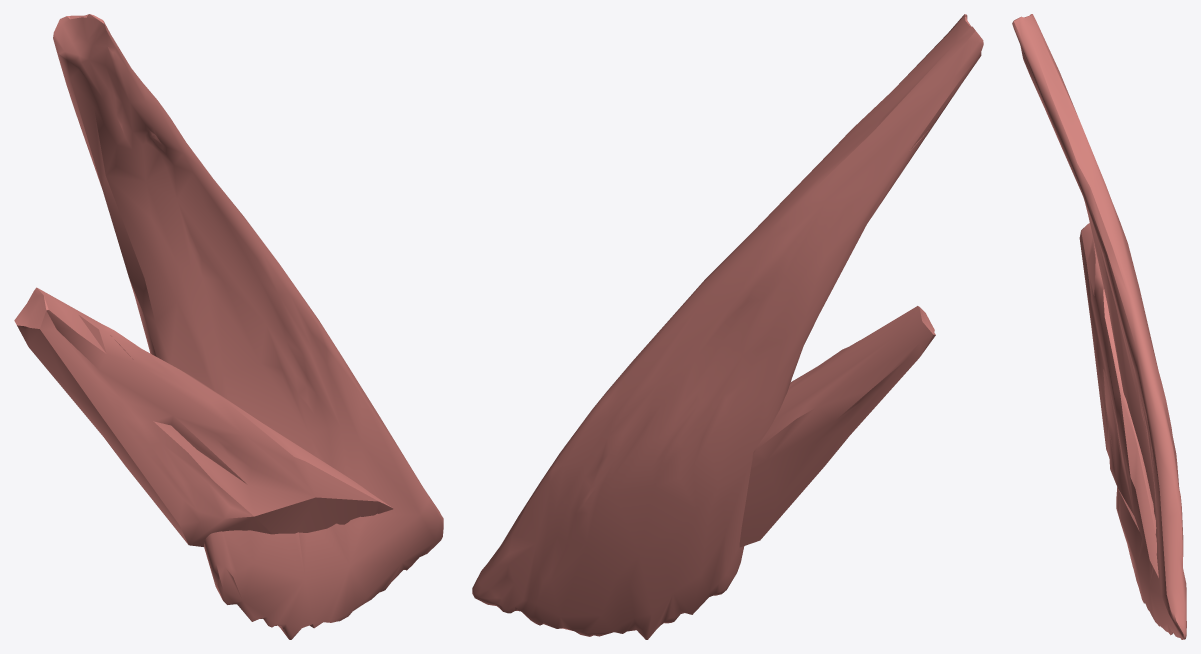
File: fma82375_mm4005.glb
The picture shows the model from 3 angles, left to right: view 1: azimuth 30°, elevation 25°; view 2: azimuth 150°, elevation 25°; view 3: azimuth 270°, elevation 25°; orthographic projection. The views are drawn at different scales.
Parts seen in each view (by area): view 1: FMA82375_MM4005; view 2: FMA82375_MM4005; view 3: FMA82375_MM4005.
Boxes of the visible parts, x1,y1,x2,y2 form: FMA82375_MM4005: [14, 14, 443, 639]; FMA82375_MM4005: [472, 14, 983, 639]; FMA82375_MM4005: [1012, 14, 1186, 639].
Size of the model in its own units: 0.0401 by 0.058 by 0.0185.
